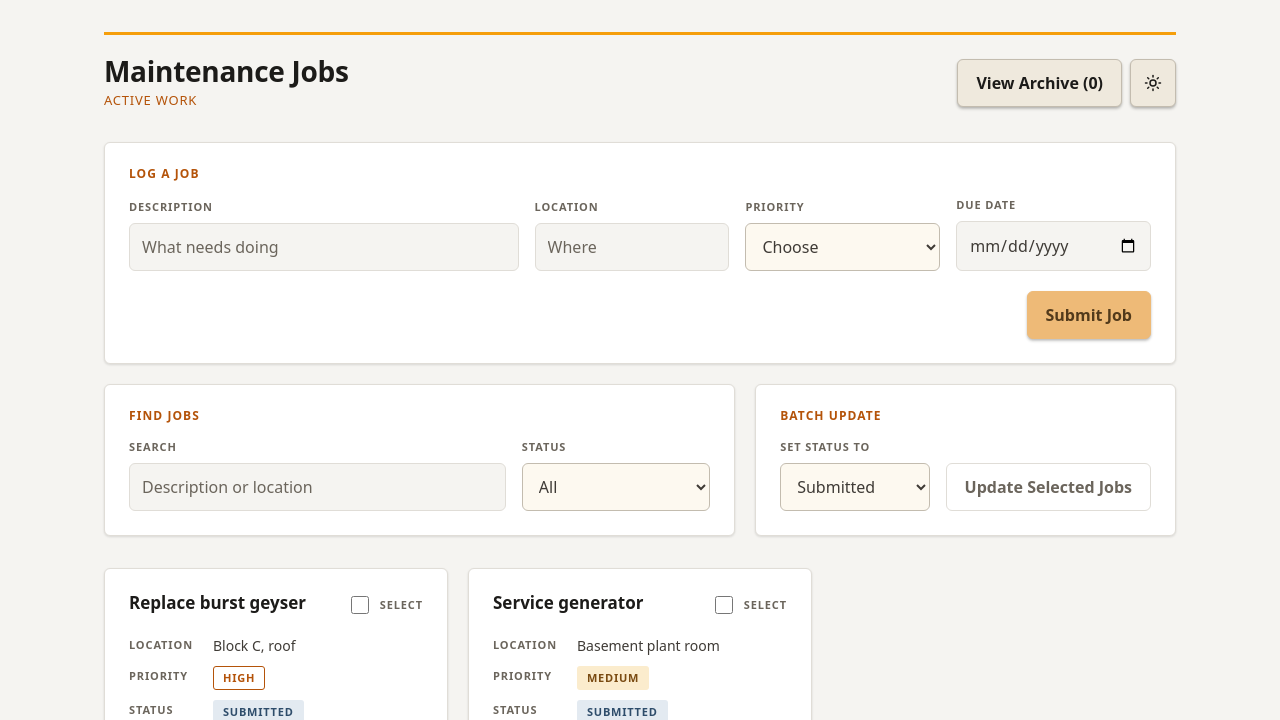
Test: batch selection › counts selected jobs
Expected: the heading "Replace burst geyser" is shown, [129,593,321,613]
Expected: the button "Update Selected Jobs" is disabled, [946,463,1151,511]
Step 1. Click the checkbox labelled "Select" next to "Replace burst geyser" → (360, 605), box [351,596,369,614]
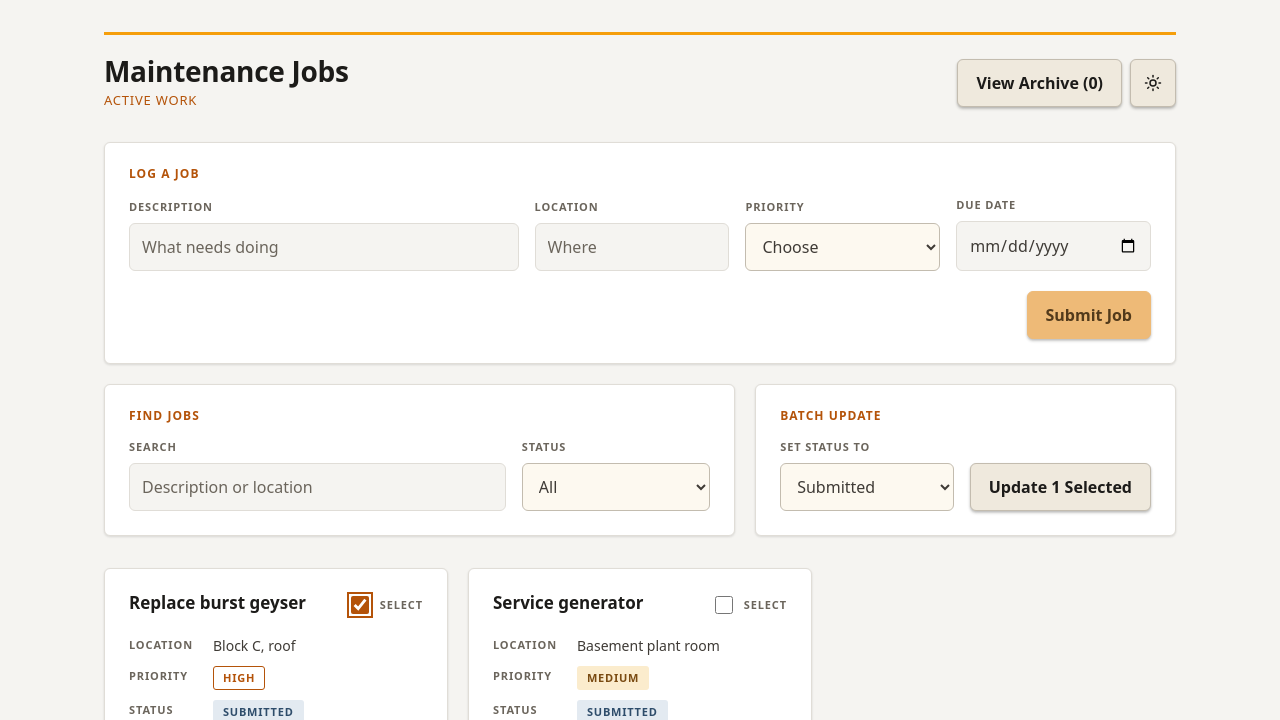
Expected: the button "Update 1 Selected" is enabled, [970,463,1151,511]
